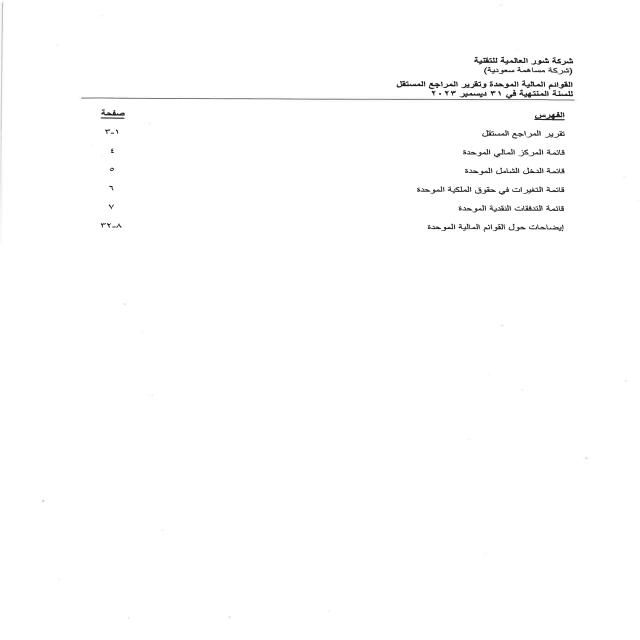other: (71, 106, 568, 236)
